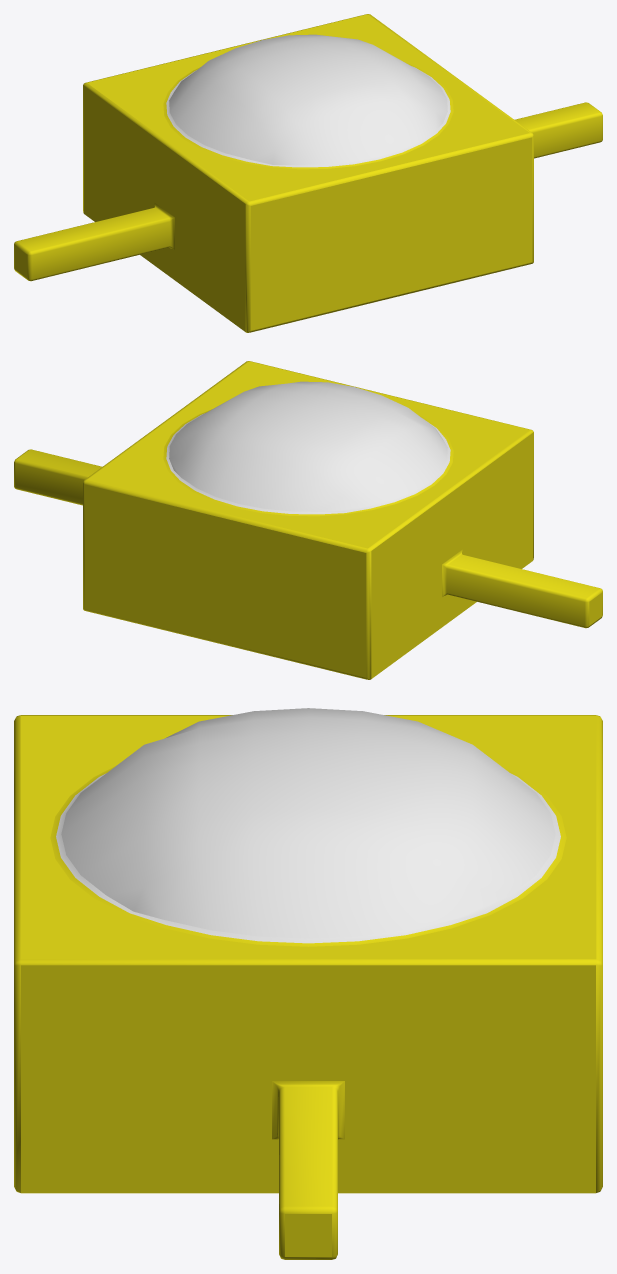
File: Lights.fbx
3 renders of one model, top to bottom at view 1: azimuth 30°, elevation 25°; view 2: azimuth 150°, elevation 25°; view 3: azimuth 270°, elevation 25°, orthographic. The views are drawn at different scales.
Visible parts, largest first — view 1: SimpleLight; view 2: SimpleLight; view 3: SimpleLight.
Part boxes in pixels (bbox=[...]): SimpleLight: bbox=[14, 14, 602, 332]; SimpleLight: bbox=[14, 361, 602, 679]; SimpleLight: bbox=[14, 708, 602, 1259].
Size of the model in its own units: 50 by 14.75 by 25.
